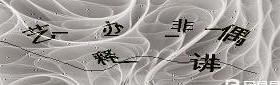chinese: (219, 20, 251, 49), (190, 49, 220, 75), (24, 23, 57, 46), (93, 46, 119, 67), (171, 17, 197, 37), (101, 19, 125, 39)
